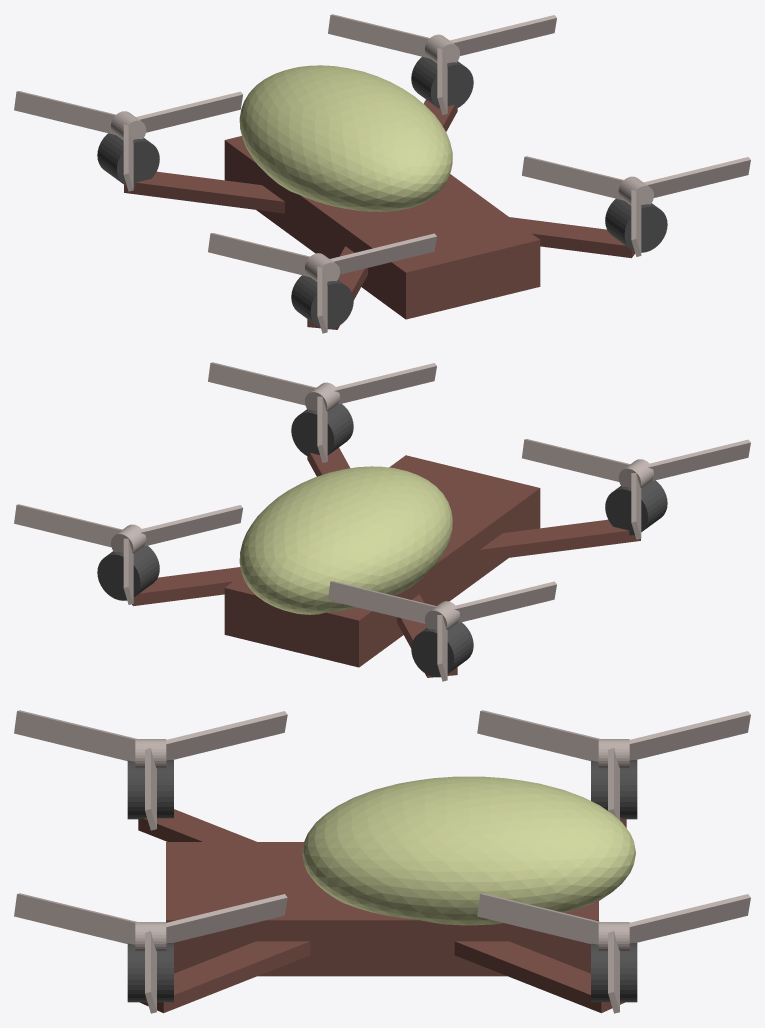
Rendered from Heavy Metal.glb.
3 views of the same model, one above another, from view 1: azimuth 30°, elevation 25°; view 2: azimuth 150°, elevation 25°; view 3: azimuth 270°, elevation 25° (orthographic). The views are drawn at different scales.
Visible parts, largest first — view 1: canopy, frame_body, prop_0, prop_1, prop_3, prop_2, arm_3, arm_0, motor_0, motor_2, motor_1, motor_3 (+1 smaller); view 2: canopy, frame_body, prop_2, prop_1, prop_0, prop_3, arm_2, arm_1, motor_3, motor_1, motor_0, motor_2 (+2 smaller); view 3: canopy, frame_body, prop_2, prop_0, prop_1, prop_3, arm_1, arm_0, arm_2, motor_1, motor_0, motor_2 (+1 smaller).
Boxes of the visible parts, x1,y1,x2,y2 form: canopy: (239,65,452,211); frame_body: (224,136,540,319); prop_0: (522,156,750,256); prop_1: (328,14,556,114); prop_3: (14,91,243,191); prop_2: (208,233,436,333); arm_3: (124,171,284,213); arm_0: (509,217,635,258); motor_0: (605,198,667,252); motor_2: (291,275,353,329); motor_1: (411,56,473,109); motor_3: (97,133,159,187); canopy: (239,466,452,614); frame_body: (224,455,540,667); prop_2: (522,439,750,539); prop_1: (14,504,242,604); prop_0: (208,362,436,462); prop_3: (328,581,556,681); arm_2: (480,519,640,561); arm_1: (132,567,242,606); motor_3: (411,622,473,677); motor_1: (97,545,159,600); motor_0: (291,404,353,457); motor_2: (605,480,667,535); canopy: (302,776,635,925); frame_body: (166,842,598,976); prop_2: (14,710,287,830); prop_0: (14,893,287,1013); prop_1: (477,893,750,1013); prop_3: (477,710,750,819); arm_1: (454,941,624,1013); arm_0: (140,941,310,1013); arm_2: (138,809,256,841); motor_1: (591,943,637,1002); motor_0: (127,943,173,1002); motor_2: (127,760,173,819).
Size of the model in its own units: 0.2167 by 0.0516 by 0.2383.
